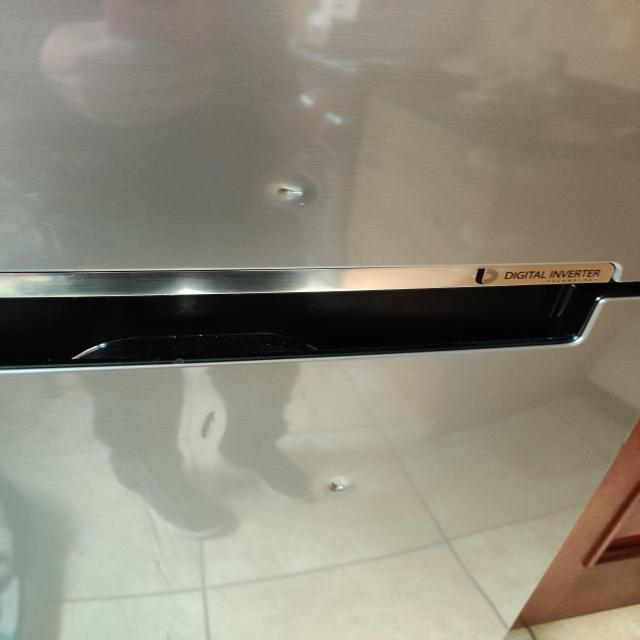dents: (240, 167, 332, 227), (188, 401, 233, 458), (306, 460, 359, 508)
